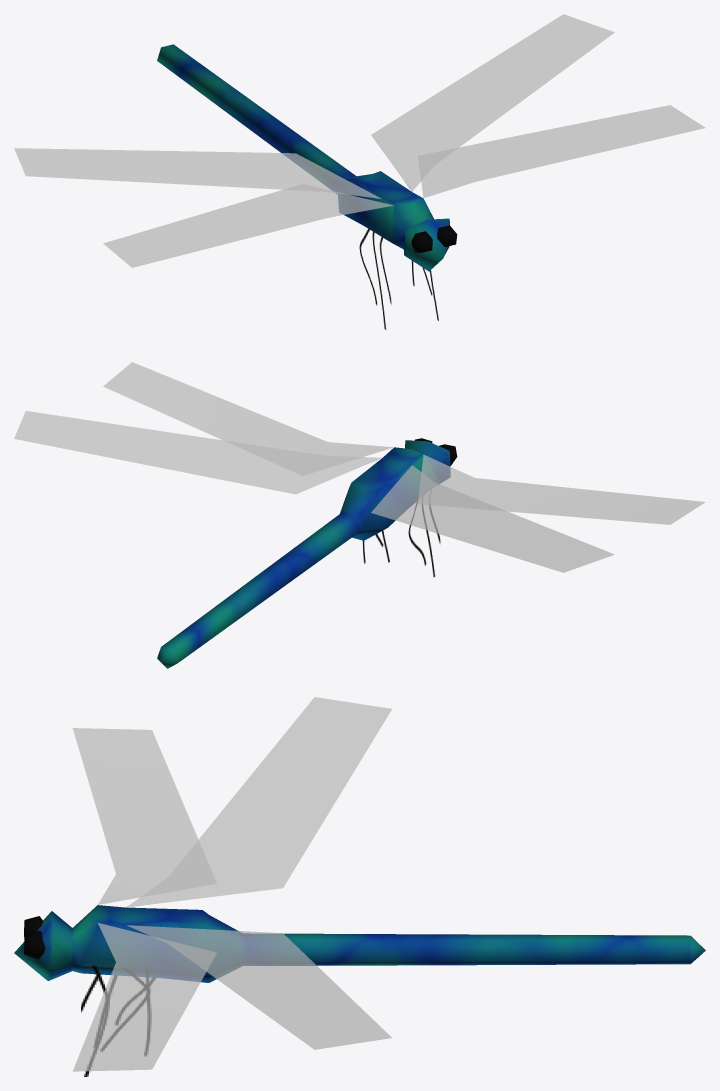
Rendered from dragonfly.glb.
3 views of the same model, one above another, from view 1: azimuth 30°, elevation 25°; view 2: azimuth 150°, elevation 25°; view 3: azimuth 270°, elevation 25° (orthographic). The views are drawn at different scales.
Parts seen in each view (by area): view 1: LeftWing, RightWing, Dragonfly; view 2: LeftWing, RightWing, Dragonfly; view 3: RightWing, Dragonfly, LeftWing.
Boxes of the visible parts, bbox=[...] form: LeftWing: bbox=[371, 14, 705, 197]; RightWing: bbox=[14, 148, 393, 267]; Dragonfly: bbox=[157, 44, 457, 329]; LeftWing: bbox=[14, 362, 393, 494]; RightWing: bbox=[371, 455, 705, 572]; Dragonfly: bbox=[157, 438, 457, 668]; RightWing: bbox=[72, 697, 391, 907]; Dragonfly: bbox=[14, 905, 705, 1076]; LeftWing: bbox=[72, 923, 391, 1071].
Bounding box in the file's own units: 5.93 × 1.48 × 4.92.
4 materials, 4 textured.
